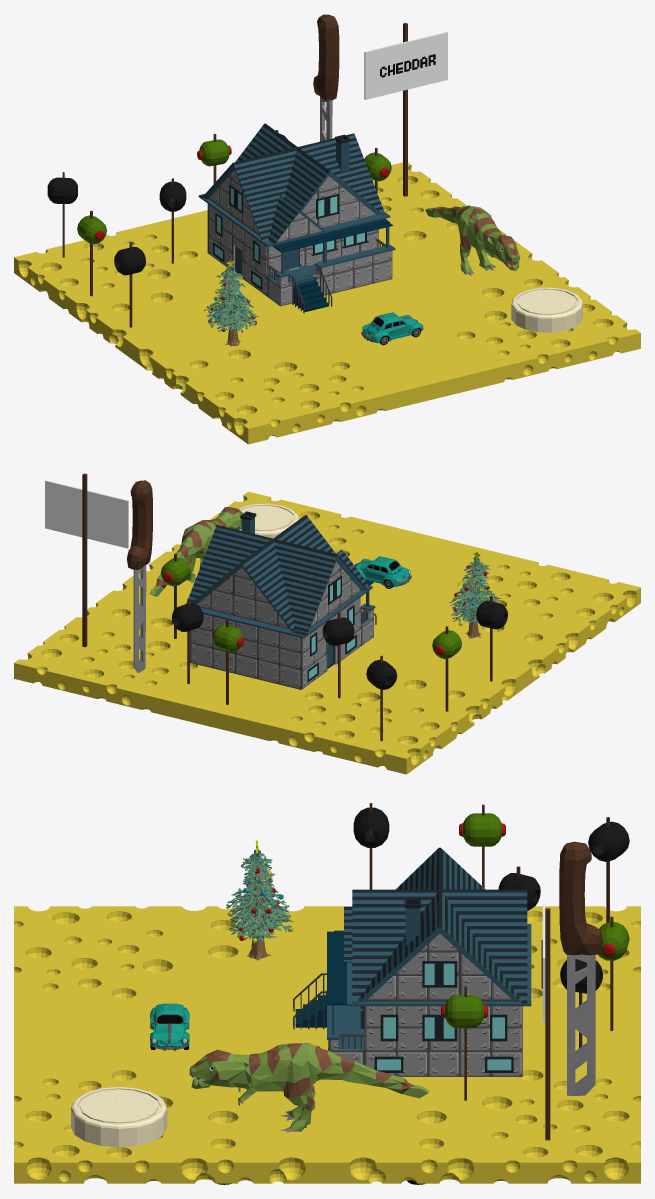
The picture shows the model from 3 angles, top to bottom: view 1: azimuth 30°, elevation 25°; view 2: azimuth 150°, elevation 25°; view 3: azimuth 270°, elevation 25°; orthographic projection. The views are drawn at different scales.
Parts seen in each view (by area): view 1: Cube.022, Cube.078, Cube.023, ANIMAL_TREX, Cylinder.016, Cube.024, OBJRANDOM_CHRISTMAS_TREE, VEHICLES_VOLKSWAGEN, Sphere.017, Sphere.016, Sphere.020, Sphere.018 (+2 smaller); view 2: Cube.022, Cube.078, Cube.023, Cube.024, ANIMAL_TREX, OBJRANDOM_CHRISTMAS_TREE, Cylinder.016, VEHICLES_VOLKSWAGEN, Sphere.017, Sphere.020, Sphere.021, Sphere.016 (+3 smaller); view 3: Cube.022, Cube.078, ANIMAL_TREX, Cube.024, Cylinder.016, OBJRANDOM_CHRISTMAS_TREE, Cube.023, VEHICLES_VOLKSWAGEN, Sphere.019, Sphere.016, Sphere.018, Sphere.017 (+3 smaller).
Boxes of the visible parts, x1=… form: Cube.022: x1=14, y1=162, x2=640, y2=444; Cube.078: x1=198, y1=123, x2=395, y2=313; Cube.023: x1=364, y1=23, x2=447, y2=196; ANIMAL_TREX: x1=425, y1=205, x2=520, y2=275; Cylinder.016: x1=511, y1=287, x2=582, y2=332; Cube.024: x1=313, y1=14, x2=339, y2=141; OBJRANDOM_CHRISTMAS_TREE: x1=204, y1=260, x2=258, y2=346; VEHICLES_VOLKSWAGEN: x1=361, y1=312, x2=423, y2=345; Sphere.017: x1=114, y1=242, x2=145, y2=327; Sphere.016: x1=47, y1=172, x2=77, y2=257; Sphere.020: x1=159, y1=178, x2=186, y2=263; Sphere.018: x1=77, y1=210, x2=106, y2=296; Cube.022: x1=14, y1=491, x2=640, y2=774; Cube.078: x1=185, y1=511, x2=376, y2=689; Cube.023: x1=45, y1=473, x2=128, y2=647; Cube.024: x1=127, y1=480, x2=152, y2=672; ANIMAL_TREX: x1=149, y1=507, x2=243, y2=596; OBJRANDOM_CHRISTMAS_TREE: x1=449, y1=551, x2=500, y2=638; Cylinder.016: x1=238, y1=503, x2=298, y2=538; VEHICLES_VOLKSWAGEN: x1=354, y1=556, x2=411, y2=588; Sphere.017: x1=476, y1=596, x2=507, y2=681; Sphere.020: x1=322, y1=612, x2=354, y2=698; Sphere.021: x1=171, y1=598, x2=203, y2=683; Sphere.016: x1=366, y1=655, x2=397, y2=741; Cube.022: x1=14, y1=906, x2=640, y2=1183; Cube.078: x1=293, y1=847, x2=531, y2=1076; ANIMAL_TREX: x1=189, y1=1043, x2=428, y2=1132; Cube.024: x1=559, y1=841, x2=602, y2=1095; Cylinder.016: x1=71, y1=1086, x2=167, y2=1147; OBJRANDOM_CHRISTMAS_TREE: x1=226, y1=840, x2=293, y2=960; Cube.023: x1=541, y1=904, x2=550, y2=1140; VEHICLES_VOLKSWAGEN: x1=150, y1=1003, x2=189, y2=1050; Sphere.019: x1=441, y1=986, x2=487, y2=1100; Sphere.016: x1=588, y1=817, x2=629, y2=922; Sphere.018: x1=459, y1=804, x2=505, y2=887; Sphere.017: x1=353, y1=803, x2=389, y2=889.
Bounding box in the file's own units: 3917 × 1985 × 4000.
40 materials, 5 textured.
